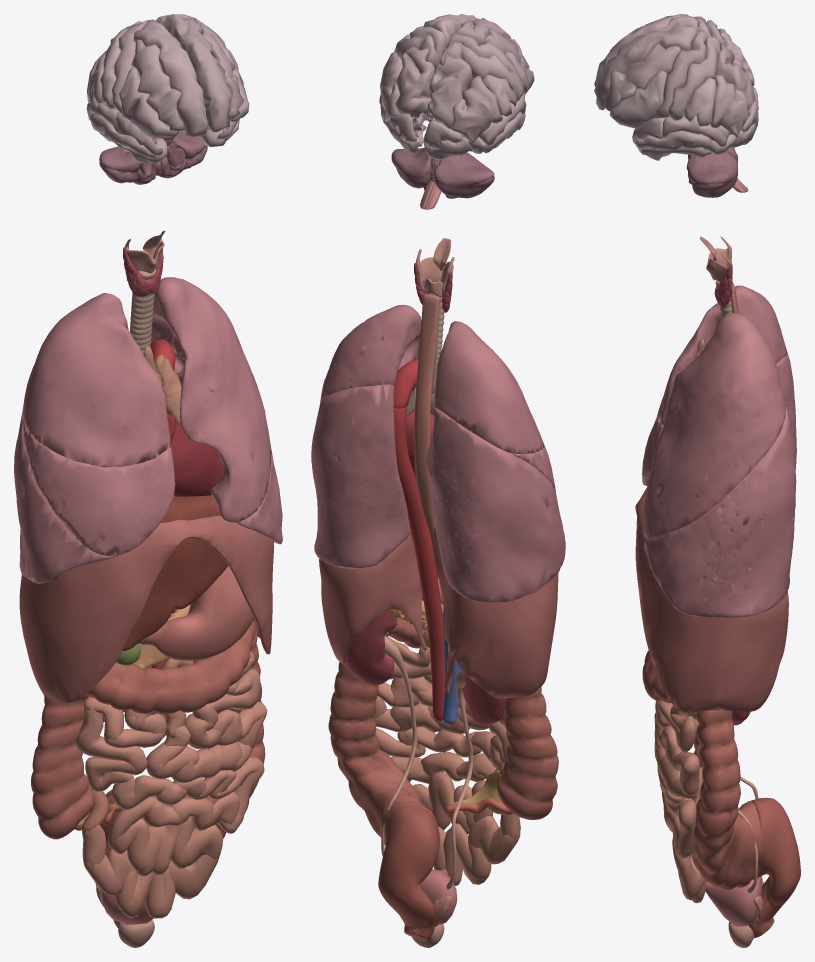
Rendered from internal-atlas.glb.
The picture shows the model from 3 angles, left to right: view 1: azimuth 30°, elevation 25°; view 2: azimuth 150°, elevation 25°; view 3: azimuth 270°, elevation 25°; orthographic projection. The views are drawn at different scales.
Visible parts, largest first — view 1: rightLung, smallBowel, diaphragm, brain, leftLung, colon, liver, stomach, cerebellum, heart, thymus, airway (+6 smaller); view 2: rightLung, leftLung, diaphragm, brain, smallBowel, colon, rectum, aorta, esophagus, cerebellum, ureters, leftKidney (+8 smaller); view 3: leftLung, brain, diaphragm, colon, smallBowel, rightLung, rectum, cerebellum, bladder, larynx, thyroid, prostate.
Part boxes in pixels (x1,y1,x2,y2): rightLung: (14,293,175,583); smallBowel: (75,651,267,918); diaphragm: (19,516,274,702); brain: (86,14,249,163); leftLung: (151,277,282,544); colon: (31,621,265,839); liver: (54,495,228,650); stomach: (143,566,254,660); cerebellum: (99,131,207,184); heart: (167,414,223,496); thymus: (144,346,181,424); airway: (130,271,154,355); rightLung: (426,321,565,602); leftLung: (311,304,421,568); diaphragm: (319,527,558,698); brain: (379,14,534,159); smallBowel: (374,637,520,885); colon: (328,618,558,845); rectum: (378,805,439,941); aorta: (393,358,445,721); esophagus: (414,293,439,537); cerebellum: (391,147,494,198); ureters: (381,635,473,889); leftKidney: (345,609,397,685); leftLung: (642,313,796,618); brain: (594,14,758,160); diaphragm: (635,486,788,712); colon: (642,650,761,889); smallBowel: (654,700,706,903); rightLung: (642,285,796,485); rectum: (748,797,800,938); cerebellum: (686,147,737,197); bladder: (705,876,762,926); larynx: (700,236,732,287); thyroid: (714,253,732,307); prostate: (728,921,753,947).
Size of the model in its own units: 0.2331 by 0.8715 by 0.1767.
